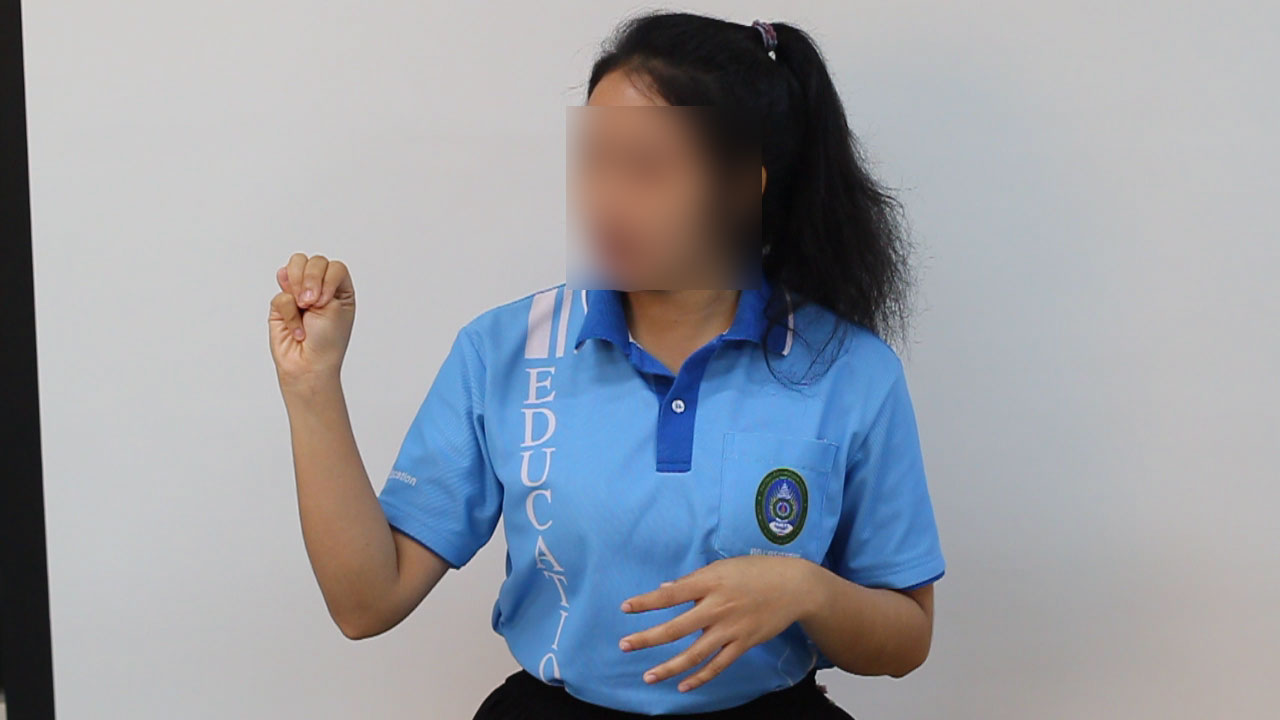mor: (250, 226, 372, 391)
